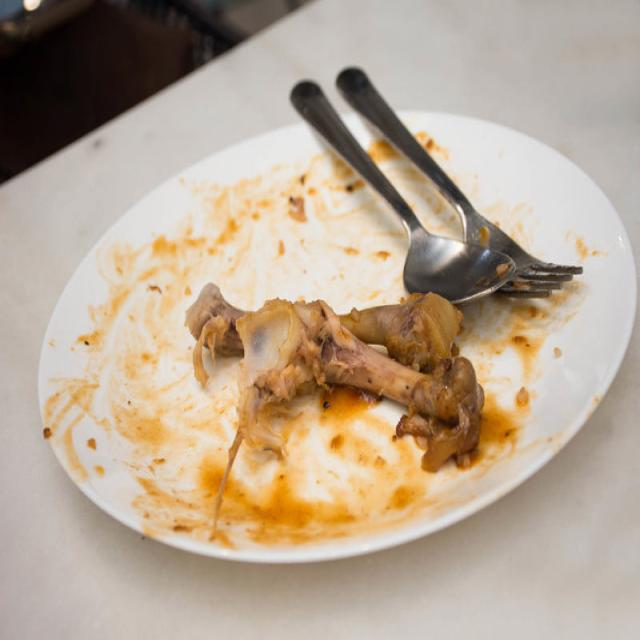Bones: (185, 283, 484, 515)
